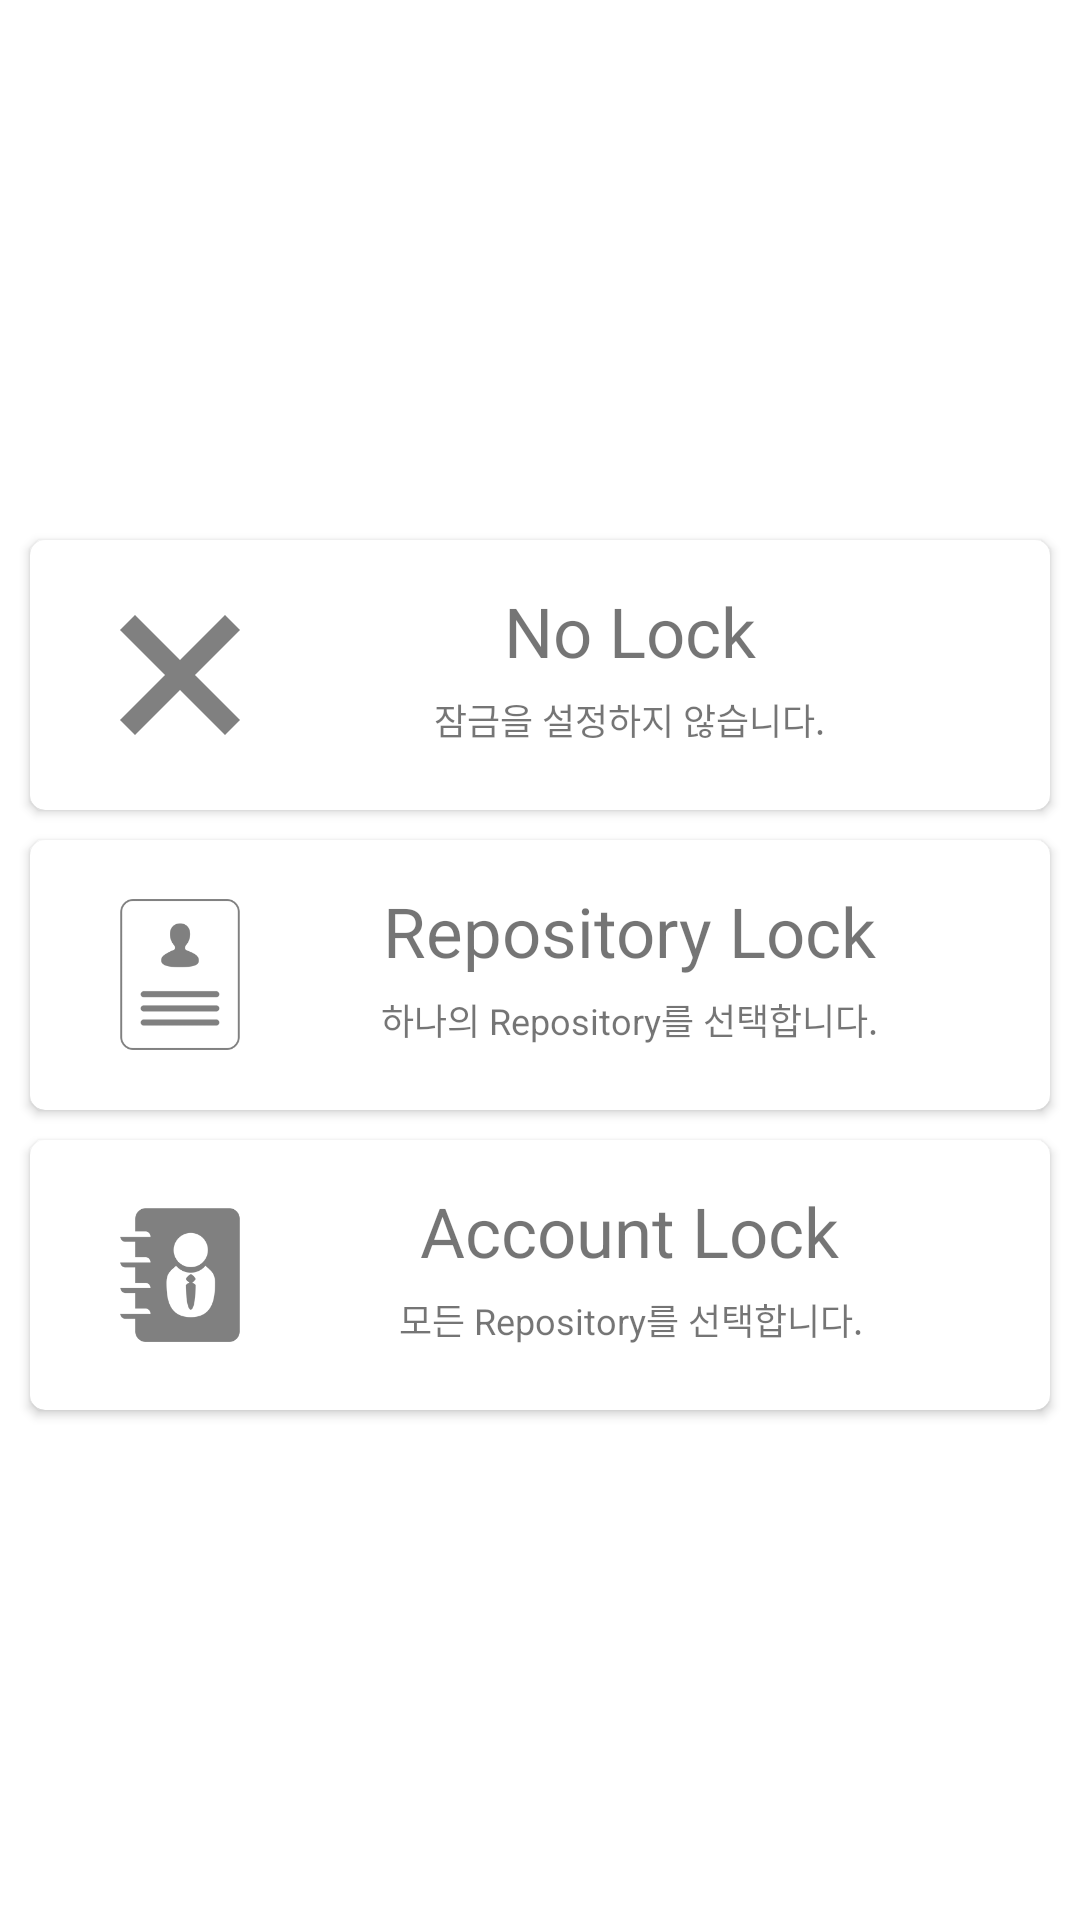

Icon click points for this 1080*1920 phone screenshot, format [x,y]:
none: [180,675]
user: [180,1275]
